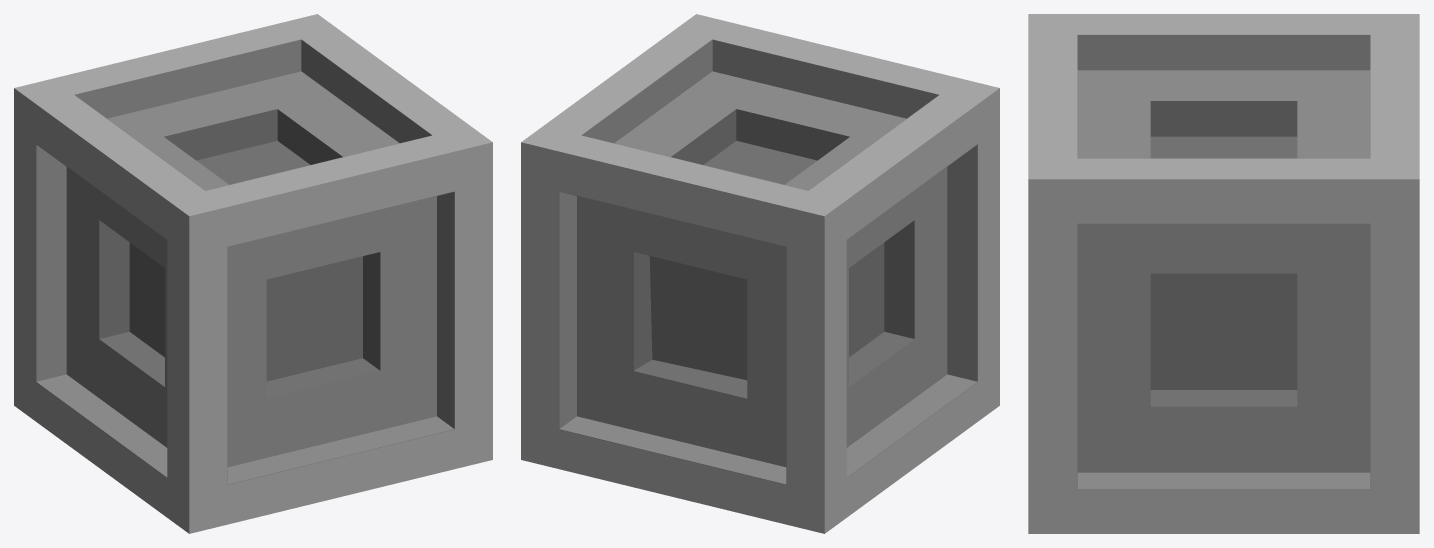
File: Block.obj
The picture shows the model from 3 angles, left to right: view 1: azimuth 30°, elevation 25°; view 2: azimuth 150°, elevation 25°; view 3: azimuth 270°, elevation 25°; orthographic projection. The views are drawn at different scales.
Parts seen in each view (by area): view 1: Block_Cube.005; view 2: Block_Cube.005; view 3: Block_Cube.005.
Part boxes in pixels (x1,y1,x2,y2): Block_Cube.005: (14,14,492,533); Block_Cube.005: (521,14,999,533); Block_Cube.005: (1028,14,1419,533).
Size of the model in its own units: 2 by 2 by 2.
1 material, 1 textured.
